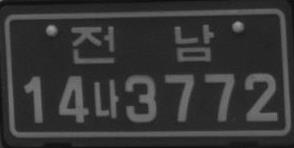1: (22, 74, 49, 124)
2: (243, 71, 279, 122)
3: (124, 73, 157, 123)
4: (57, 74, 90, 123)
7: (203, 72, 236, 122), (163, 72, 195, 122)
나: (93, 79, 119, 118)
전남_D: (70, 23, 214, 65)
